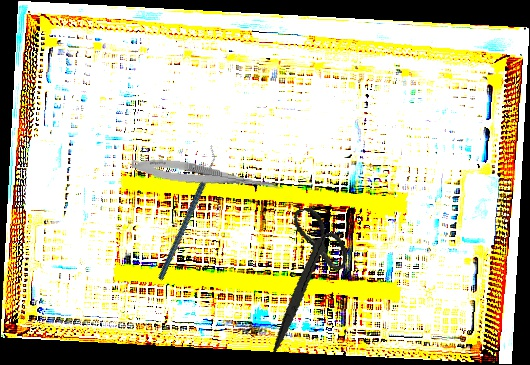Chopper: (120, 145, 253, 281)
Iris Scissors: (244, 201, 364, 353)
Micro Scissor: (129, 154, 286, 195)
